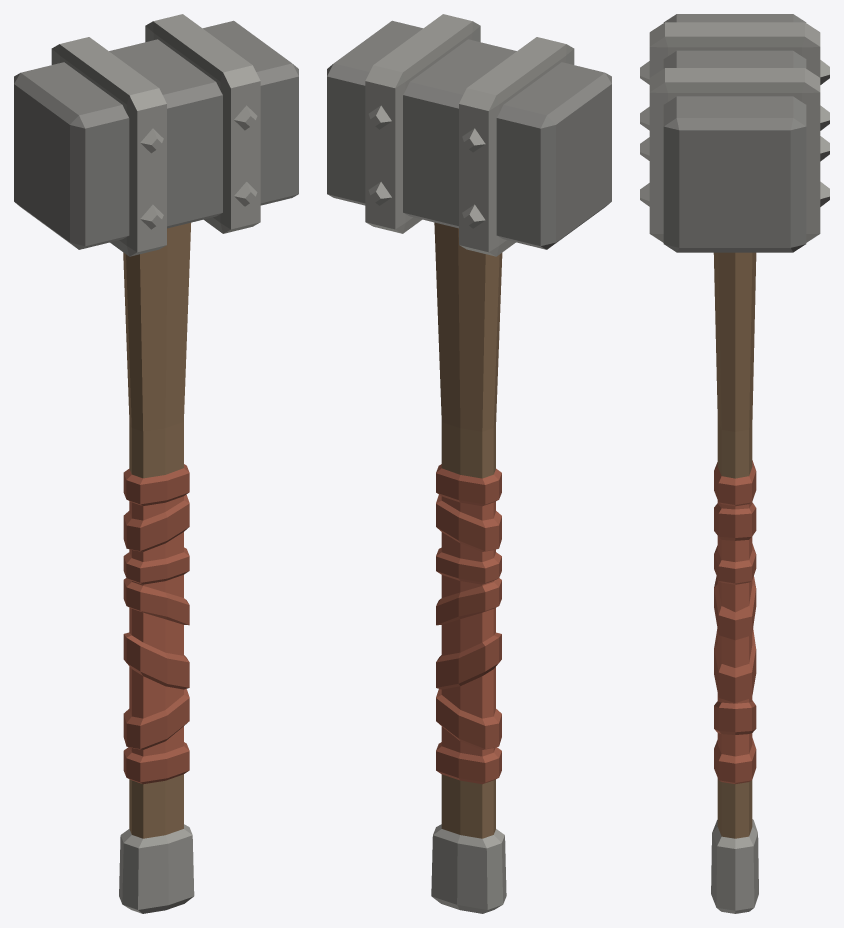
Rendered from SM_pwe_gauls_hammer_02.fbx.
3 renders of one model, left to right at view 1: azimuth 30°, elevation 25°; view 2: azimuth 150°, elevation 25°; view 3: azimuth 270°, elevation 25°, orthographic.
Visible parts, largest first — view 1: SM_pwe_gauls_hammer_02; view 2: SM_pwe_gauls_hammer_02; view 3: SM_pwe_gauls_hammer_02.
Part boxes in pixels (left/top/right/bottom): SM_pwe_gauls_hammer_02: left=14, top=14, right=298, bottom=913; SM_pwe_gauls_hammer_02: left=327, top=14, right=611, bottom=913; SM_pwe_gauls_hammer_02: left=640, top=14, right=829, bottom=913.
Size of the model in its own units: 22.02 by 78 by 15.81.
